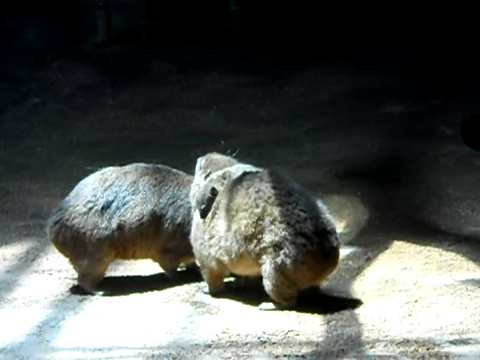Rock Hyrex: (191, 152, 342, 315), (44, 159, 197, 297)
